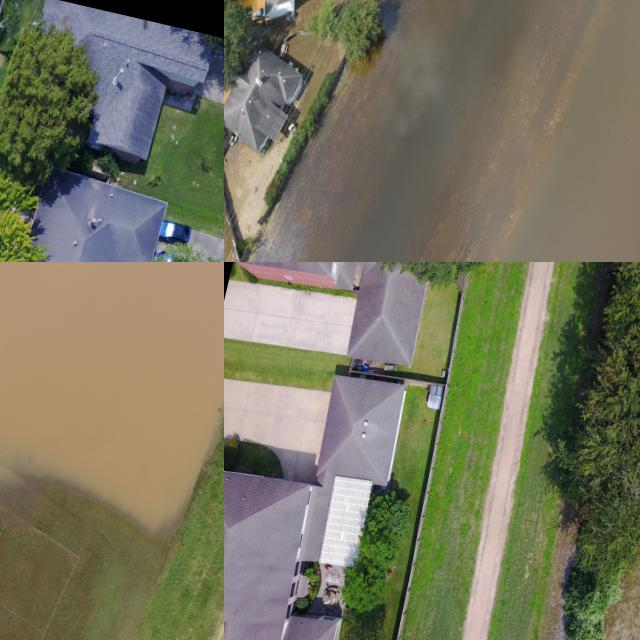fire: (249, 0, 640, 262), (0, 262, 224, 530)
